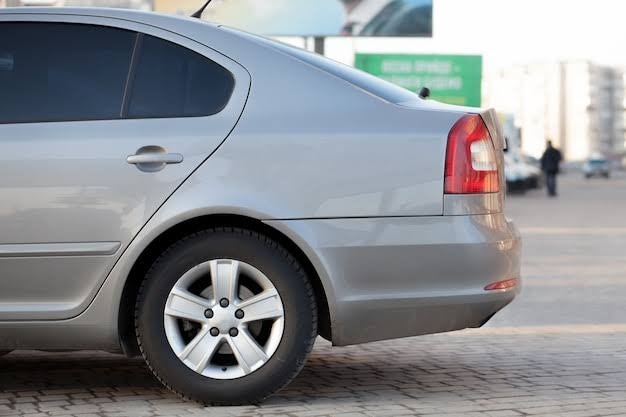car: (12, 1, 520, 410)
